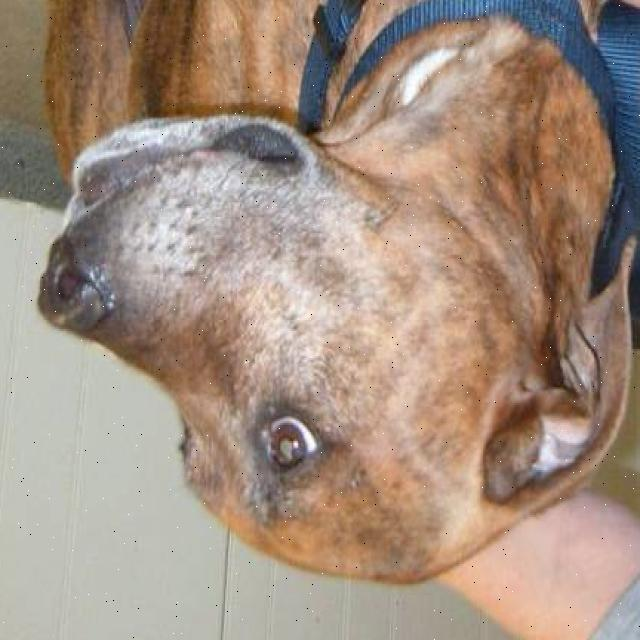Dog: (34, 81, 640, 602)
